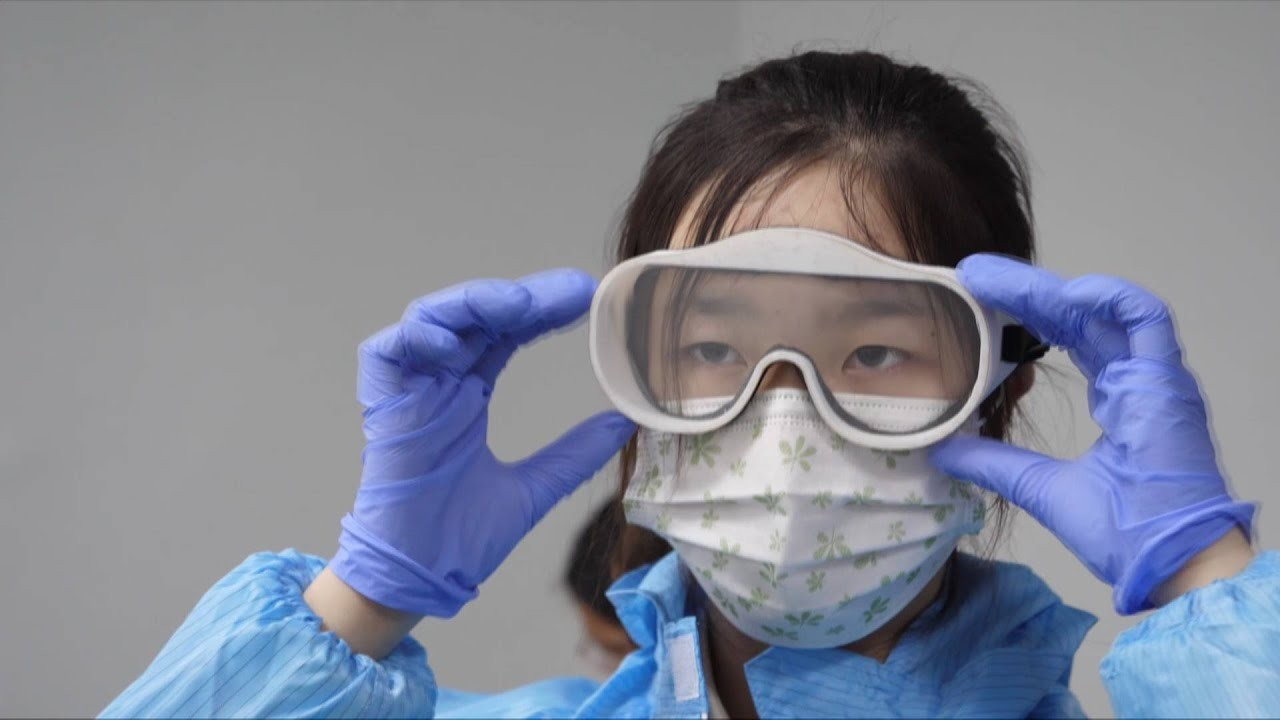Gloves: (324, 263, 641, 622), (943, 252, 1255, 615)
Goggles: (580, 220, 1032, 452)
with_mask: (630, 324, 985, 652)
